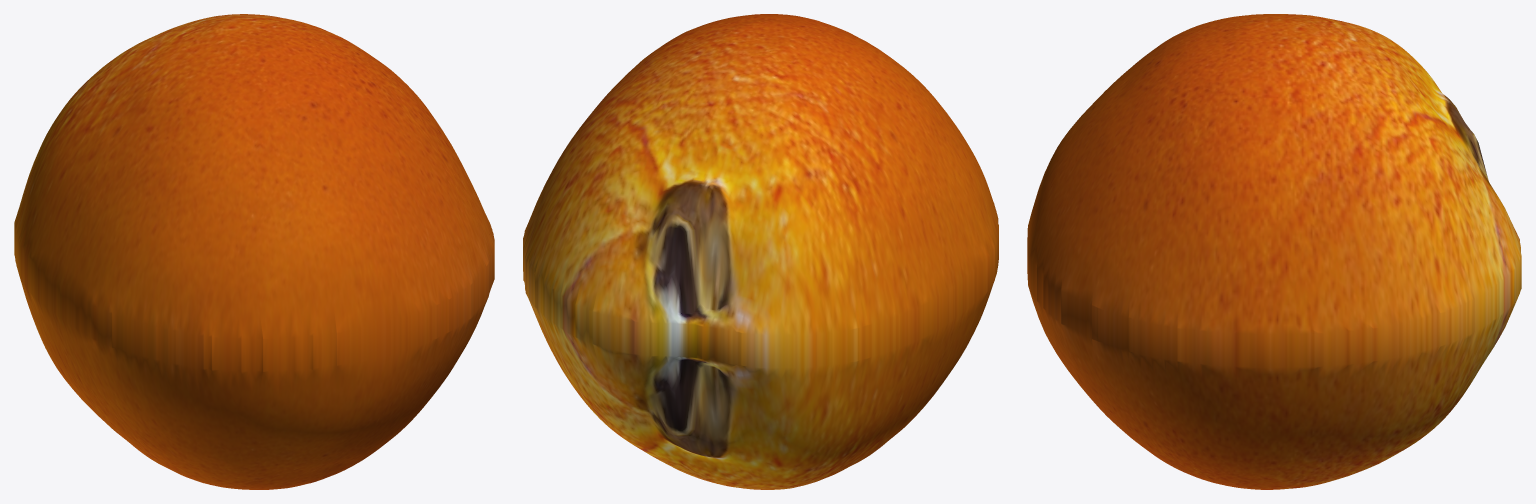
Rendered from orange_3_2.obj.
3 views of the same model, side by side, from view 1: azimuth 30°, elevation 25°; view 2: azimuth 150°, elevation 25°; view 3: azimuth 270°, elevation 25° (orthographic).
Visible parts, largest first — view 1: Grid; view 2: Grid; view 3: Grid.
Boxes of the visible parts, x1,y1,x2,y2 form: Grid: [14, 14, 494, 489]; Grid: [523, 14, 998, 489]; Grid: [1027, 14, 1521, 489].
Bounding box in the file's own units: 1.54 × 1.6 × 1.64.
Materials: 1 (1 with a texture image).
